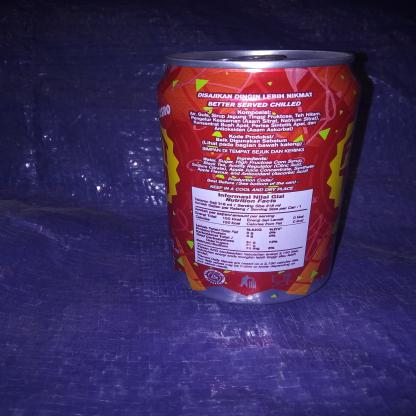bottle: (152, 43, 375, 307)
